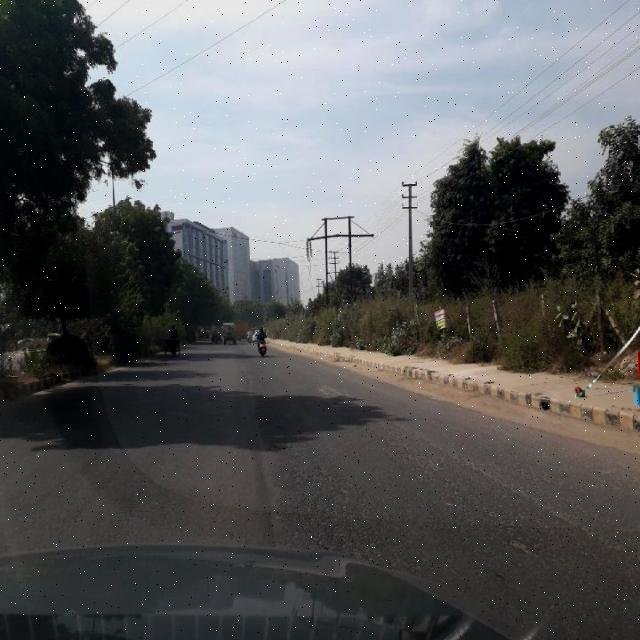D00: (447, 452, 637, 572), (245, 385, 280, 539)
